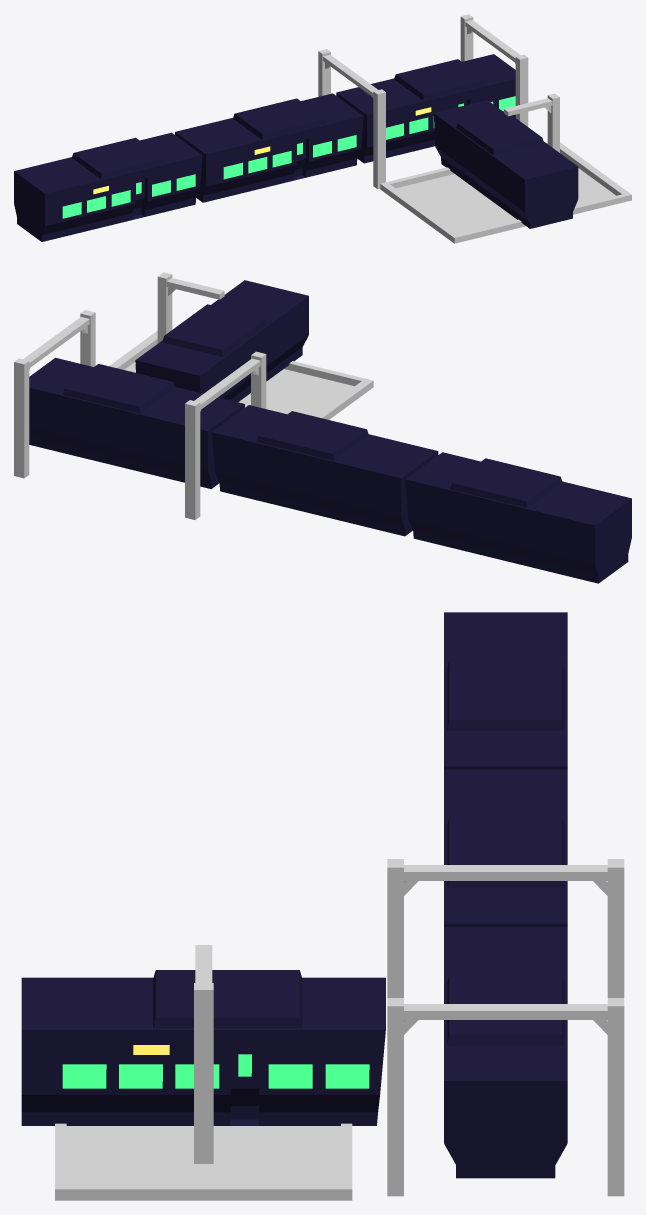
The model's file is 3d fnf train and stuff.glb.
The picture shows the model from 3 angles, top to bottom: view 1: azimuth 30°, elevation 25°; view 2: azimuth 150°, elevation 25°; view 3: azimuth 270°, elevation 25°; orthographic projection. The views are drawn at different scales.
Parts seen in each view (by area): view 1: Cube.007, Cube.006, Cube.002, Cube.004, Plane, Cube.003, Cube.005, Cube.001; view 2: Cube.007, Cube.006, Cube.004, Cube.002, Plane, Cube.003, Cube.005, Cube.001; view 3: Cube.002, Cube.004, Plane, Cube.007, Cube.006, Cube.005, Cube.003, Cube.001.
Part boxes in pixels (x1,y1,x2,y2): Cube.007: [14, 132, 202, 241]; Cube.006: [175, 93, 363, 202]; Cube.002: [433, 100, 578, 228]; Cube.004: [336, 54, 515, 163]; Plane: [380, 142, 631, 243]; Cube.003: [318, 49, 385, 189]; Cube.005: [460, 14, 528, 126]; Cube.001: [504, 93, 559, 152]; Cube.007: [405, 452, 631, 583]; Cube.006: [212, 405, 438, 536]; Cube.004: [29, 357, 244, 488]; Cube.002: [135, 280, 308, 401]; Plane: [109, 331, 373, 419]; Cube.003: [185, 351, 266, 519]; Cube.005: [14, 310, 95, 478]; Cube.001: [157, 272, 224, 343]; Cube.002: [21, 970, 385, 1125]; Cube.004: [444, 927, 567, 1178]; Plane: [55, 1123, 352, 1200]; Cube.007: [444, 612, 567, 769]; Cube.006: [444, 769, 567, 926]; Cube.005: [387, 998, 624, 1196]; Cube.003: [387, 859, 624, 997]; Cube.001: [194, 945, 213, 1163].
Size of the model in its own units: 65.55 by 12.13 by 34.92.
